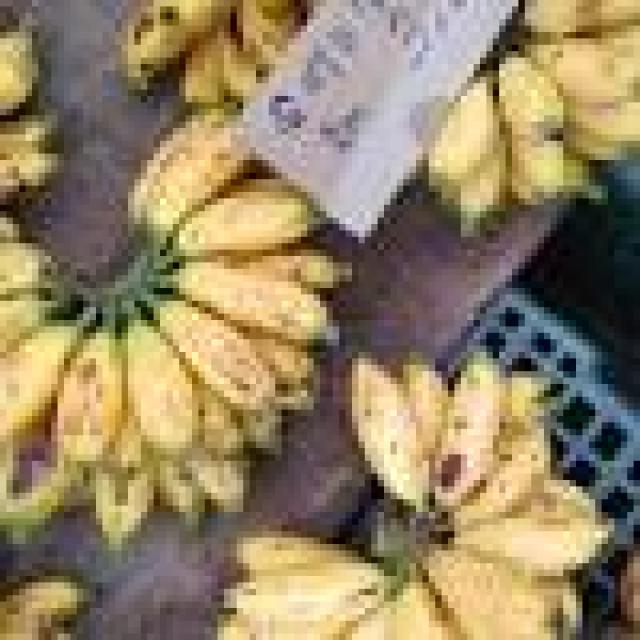Banana: (130, 111, 251, 251), (350, 355, 448, 510), (156, 300, 276, 411), (171, 261, 328, 342), (428, 74, 506, 234), (175, 180, 309, 258), (125, 319, 199, 458), (499, 54, 565, 203), (0, 324, 82, 442), (55, 329, 124, 465)
